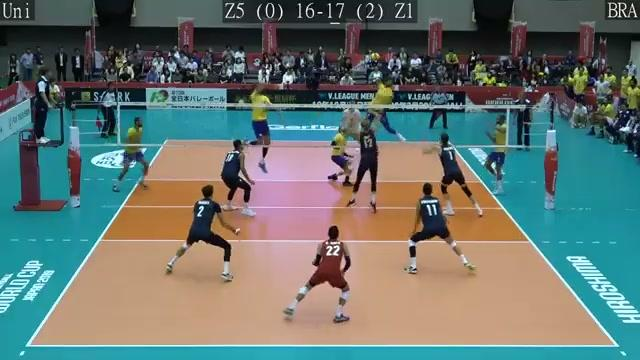ball: (369, 52, 382, 63)
